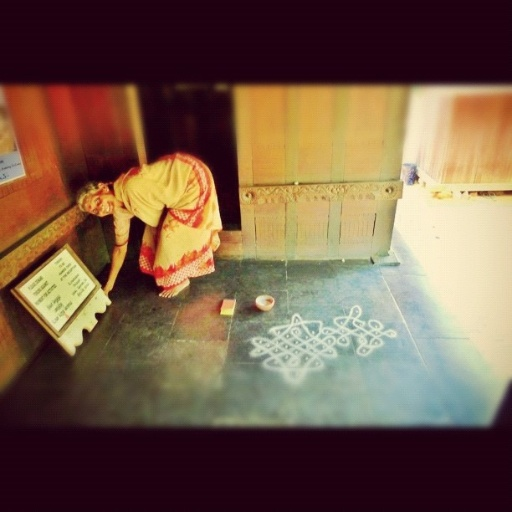hand: (100, 284, 112, 295)
